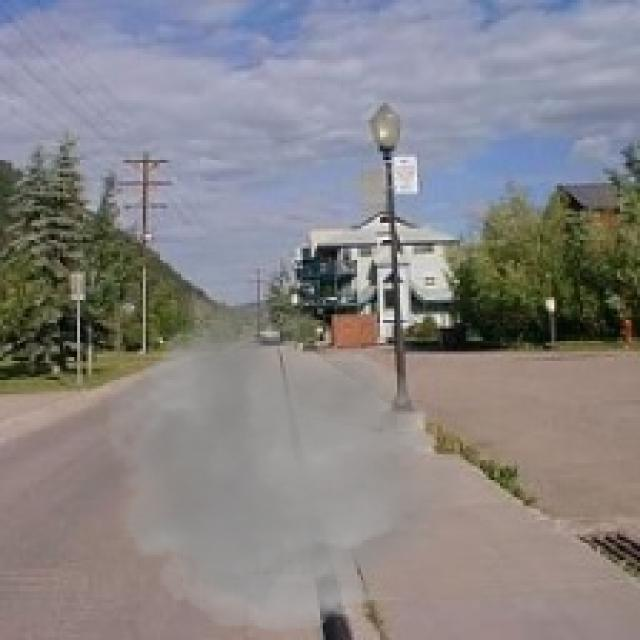smoke: (88, 280, 486, 637)
